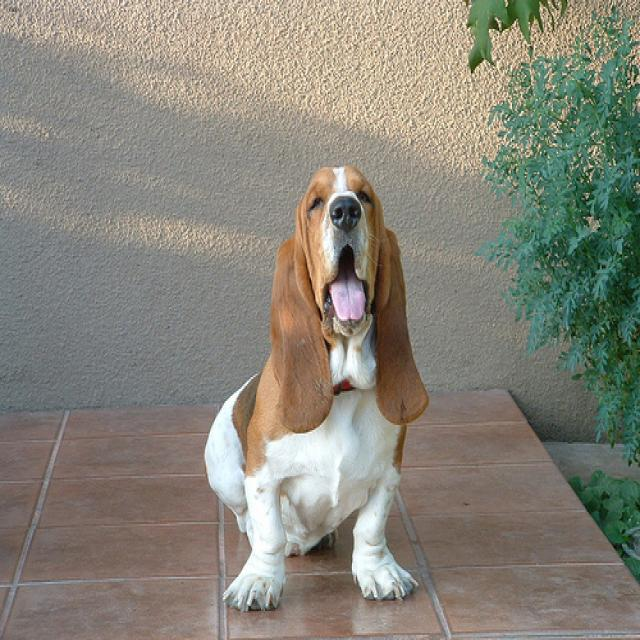dog-basset_hound: (196, 154, 431, 618)
